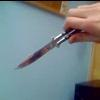melee: (13, 28, 75, 70)
